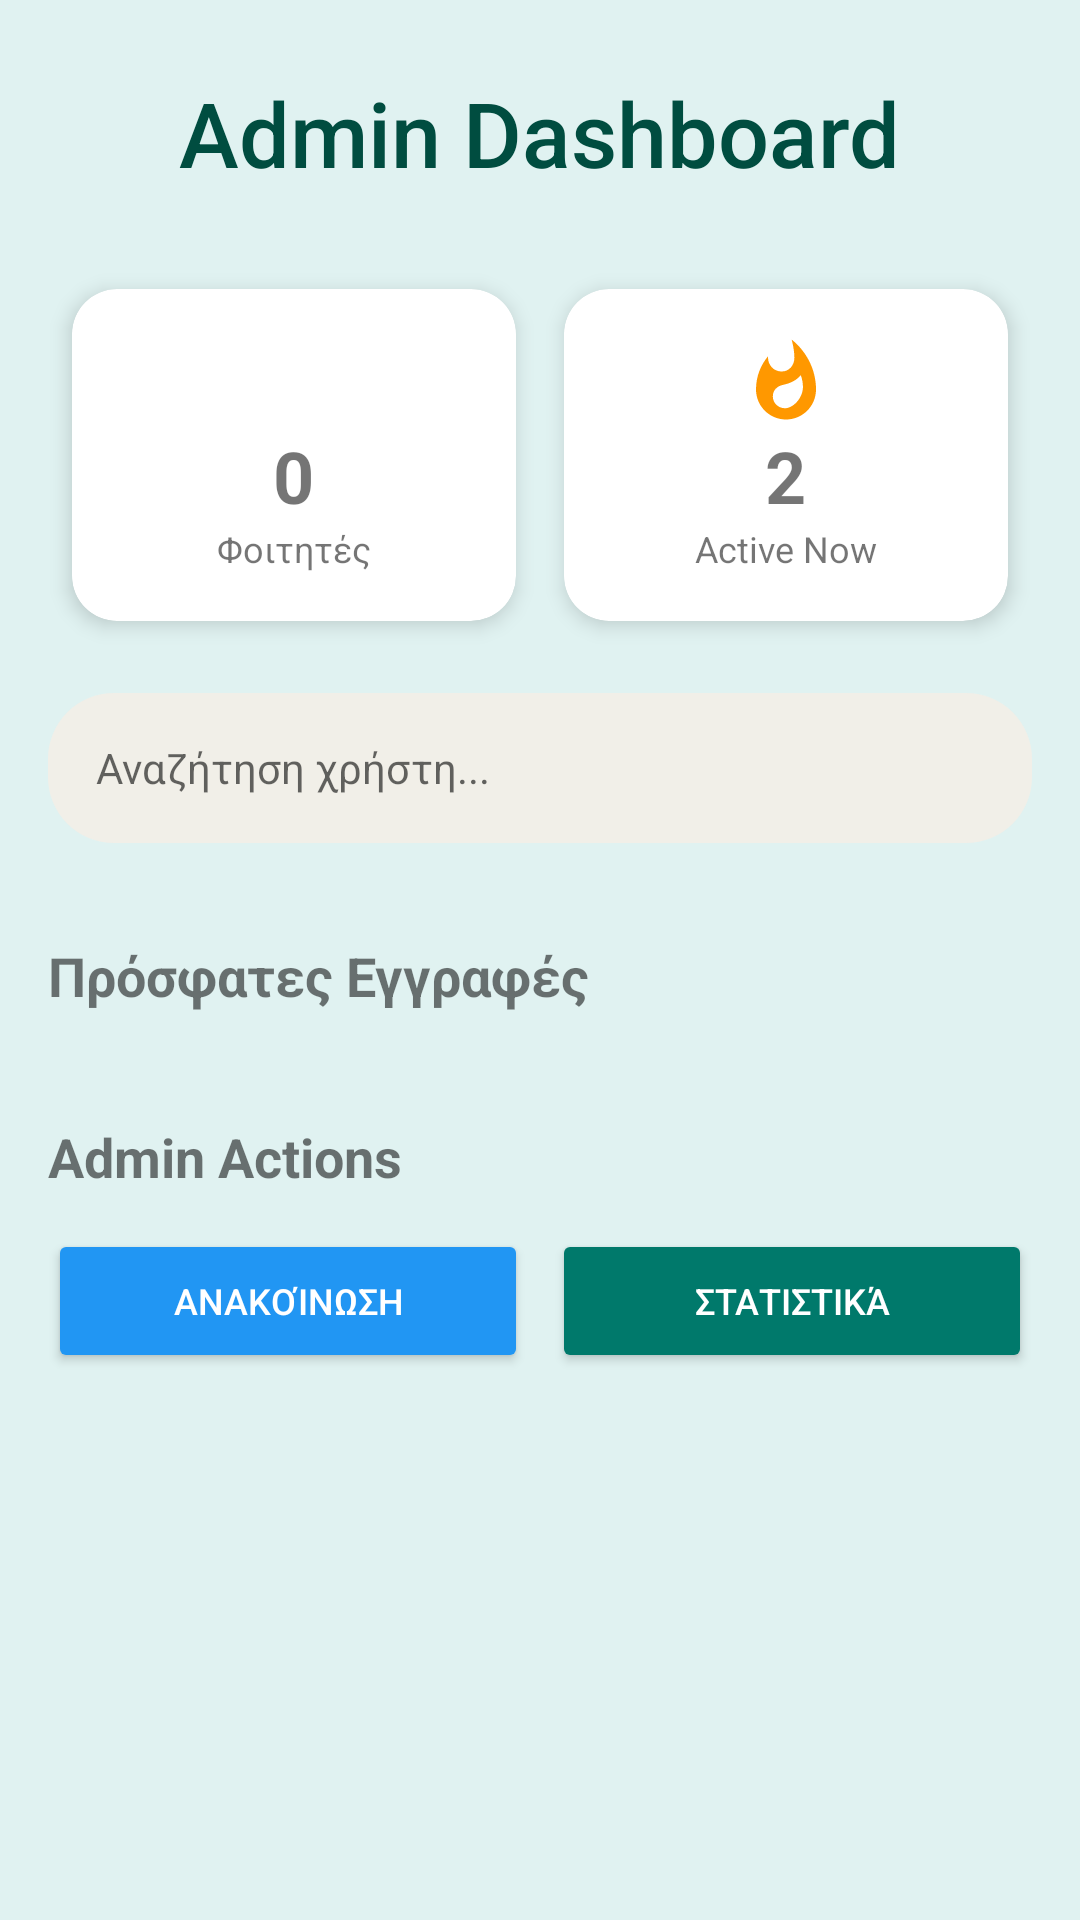

Icons on this 1080px x 1920px Android screen, each with the point to tap as (x=x, y=y):
flame: (x=786, y=380)
